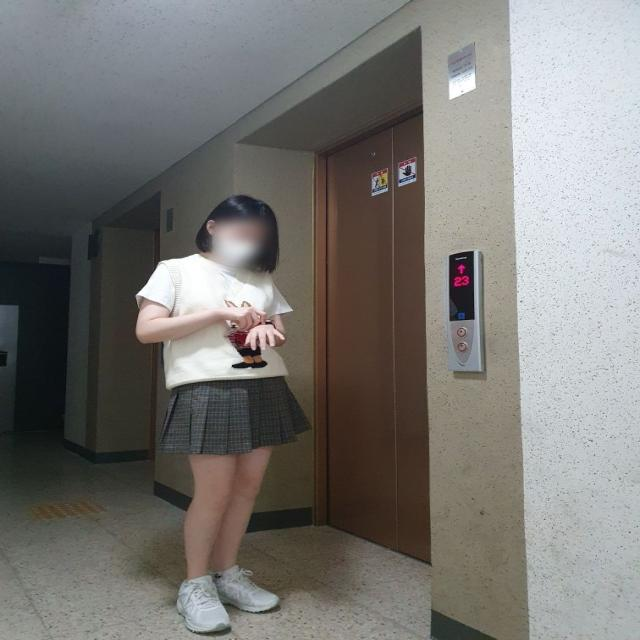shortsleeve: (130, 251, 294, 387)
skirt: (154, 374, 312, 454)
